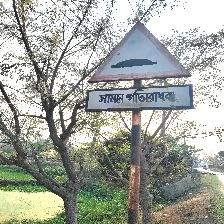Speed-breaker: (86, 20, 194, 113)
